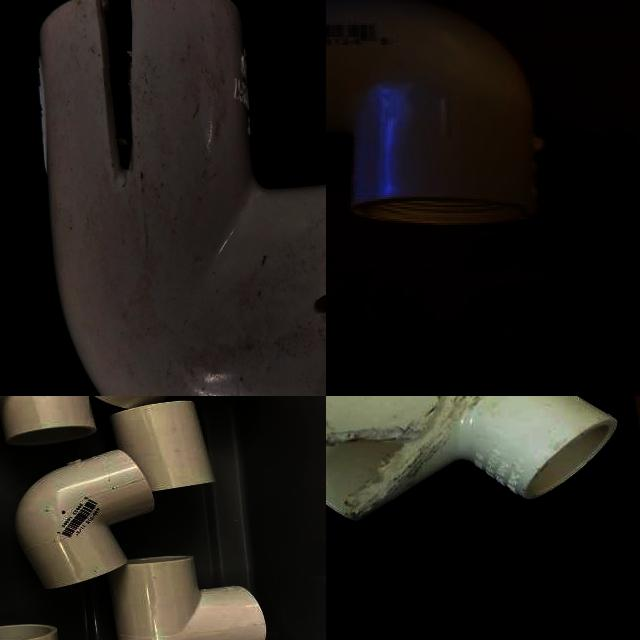Defective: (184, 98, 226, 219), (326, 433, 406, 486), (422, 396, 489, 442), (348, 494, 393, 521)
L Joint: (0, 69, 326, 396), (326, 0, 546, 230), (15, 450, 156, 593)
T Joint: (326, 396, 618, 524), (117, 556, 267, 640)
